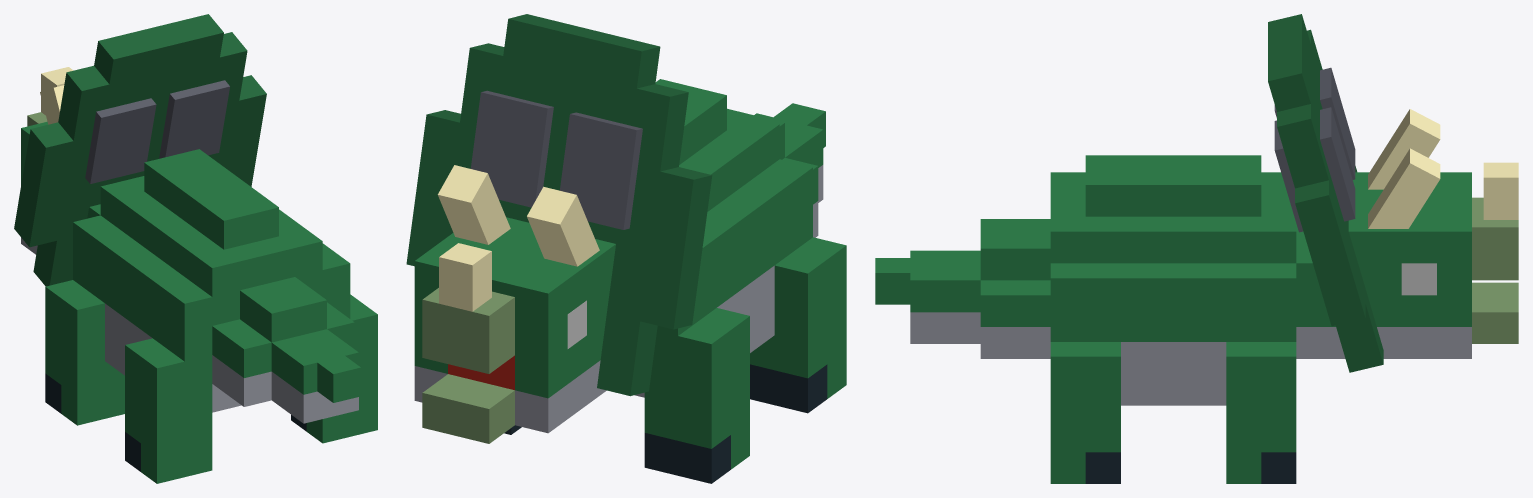
Rendered from triceratops.obj.
3 renders of one model, left to right at view 1: azimuth 30°, elevation 25°; view 2: azimuth 150°, elevation 25°; view 3: azimuth 270°, elevation 25°, orthographic. The views are drawn at different scales.
Parts seen in each view (by area): view 1: Head, UpperTorso, LowerTorso, Tail, LeftUpperLeg, LeftUpperArm, RightUpperLeg; view 2: Head, LeftUpperArm, UpperTorso, LeftUpperLeg, LowerTorso, Tail, Head_decal1; view 3: Head, UpperTorso, Tail, LowerTorso, RightUpperLeg, RightUpperArm, Head_decal2.
Boxes of the visible parts, x1,y1,x2,y2 form: Head: (14, 14, 266, 286); UpperTorso: (73, 149, 290, 375); LowerTorso: (152, 196, 350, 412); Tail: (212, 277, 360, 423); LeftUpperLeg: (125, 338, 212, 483); LeftUpperArm: (45, 280, 124, 425); RightUpperLeg: (291, 294, 377, 443); Head: (406, 14, 712, 443); LeftUpperArm: (644, 308, 749, 483); UpperTorso: (634, 104, 774, 397); LeftUpperLeg: (750, 237, 846, 413); LowerTorso: (655, 79, 812, 264); Tail: (727, 103, 825, 237); Head_decal1: (567, 300, 586, 348); Head: (1268, 14, 1518, 372); UpperTorso: (1121, 155, 1345, 405); Tail: (875, 219, 1050, 358); LowerTorso: (1050, 155, 1120, 341); RightUpperLeg: (1050, 342, 1120, 483); RightUpperArm: (1226, 342, 1296, 483); Head_decal2: (1401, 263, 1436, 295).
Size of the model in its own units: 12 by 17.96 by 27.5.
